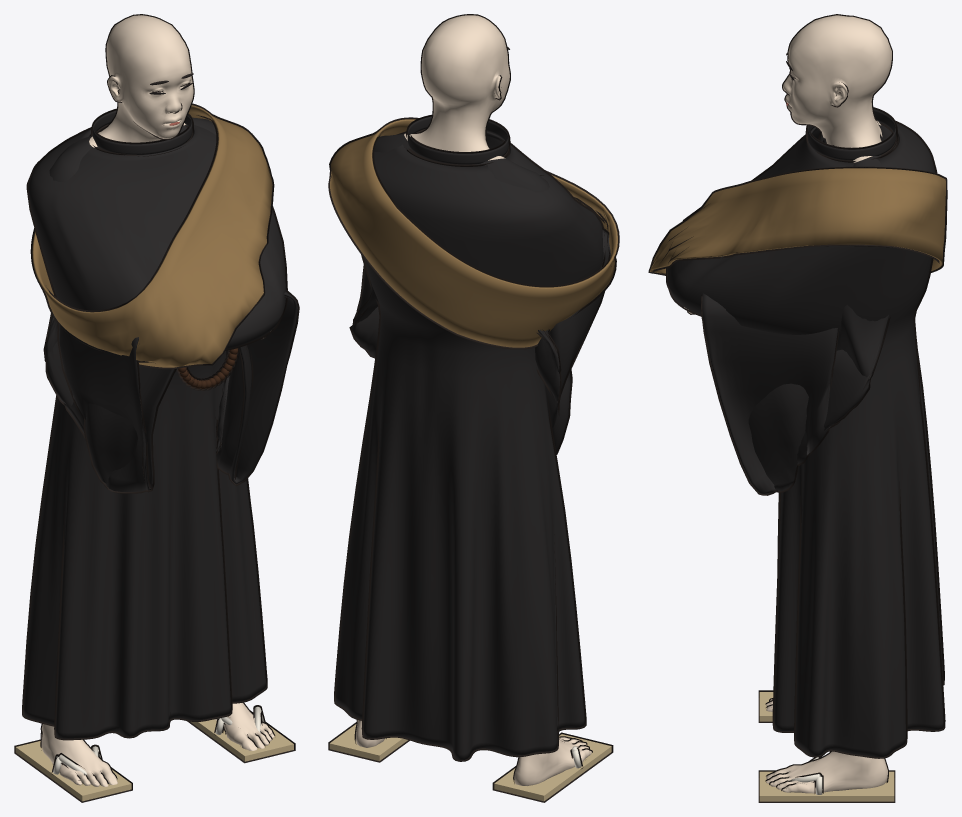
Rendered from sou_hoshi.glb.
The picture shows the model from 3 angles, left to right: view 1: azimuth 30°, elevation 25°; view 2: azimuth 150°, elevation 25°; view 3: azimuth 270°, elevation 25°; orthographic projection.
Visible parts, largest first — view 1: koromo, kesa, Human, sode.R, sode.L, koromo_sen, kesa_sen, zori.R, sode.R_sen, eri, zori.L, Human_sen (+1 smaller); view 2: koromo, kesa, Human, koromo_sen, sode.R, kesa_sen, zori.R, eri, sode.L, zori.L, sode.R_sen, Human_sen (+1 smaller); view 3: koromo, sode.L, kesa, Human, koromo_sen, zori.L, kesa_sen, eri, sode.L_sen, Human_sen.
Boxes of the visible parts, x1,y1,x2,y2 form: koromo: (23,125,285,738); kesa: (32,105,272,367); Human: (41,15,274,786); sode.R: (45,296,174,491); sode.L: (216,291,297,484); koromo_sen: (22,127,287,740); kesa_sen: (30,103,274,369); zori.R: (15,741,131,801); sode.R_sen: (43,175,176,493); eri: (92,110,192,154); zori.L: (190,719,293,761); Human_sen: (40,14,275,784); koromo: (335,131,603,760); kesa: (330,119,617,347); Human: (356,15,591,785); koromo_sen: (334,131,605,761); sode.R: (535,229,610,452); kesa_sen: (328,117,619,349); zori.R: (494,734,611,801); eri: (407,116,508,164); sode.L: (351,269,379,357); zori.L: (329,724,407,761); sode.R_sen: (536,175,609,454); Human_sen: (354,14,592,783); koromo: (667,123,943,757); sode.L: (702,293,888,494); kesa: (650,168,945,273); Human: (684,15,896,793); koromo_sen: (666,120,945,758); zori.L: (759,771,894,801); kesa_sen: (648,166,947,275); eri: (807,109,895,160); sode.L_sen: (701,294,890,495); Human_sen: (683,14,892,790).
Bounding box in the file's own units: 0.5201 × 1.55 × 0.5755.
